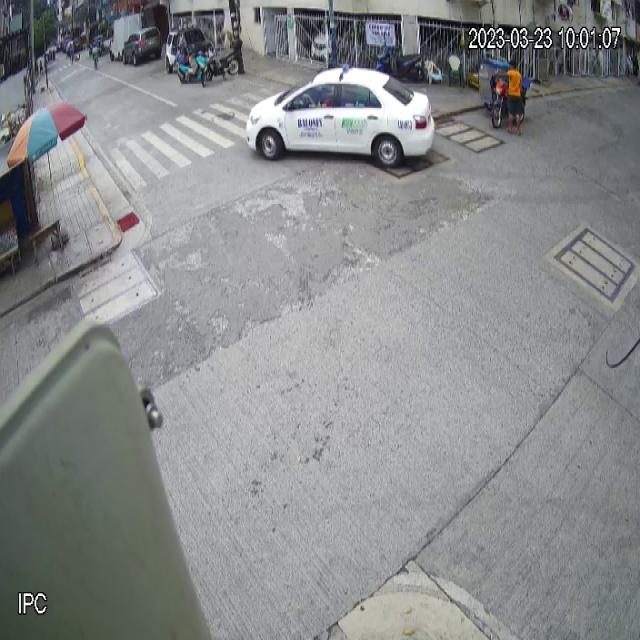Car: (244, 62, 436, 170)
